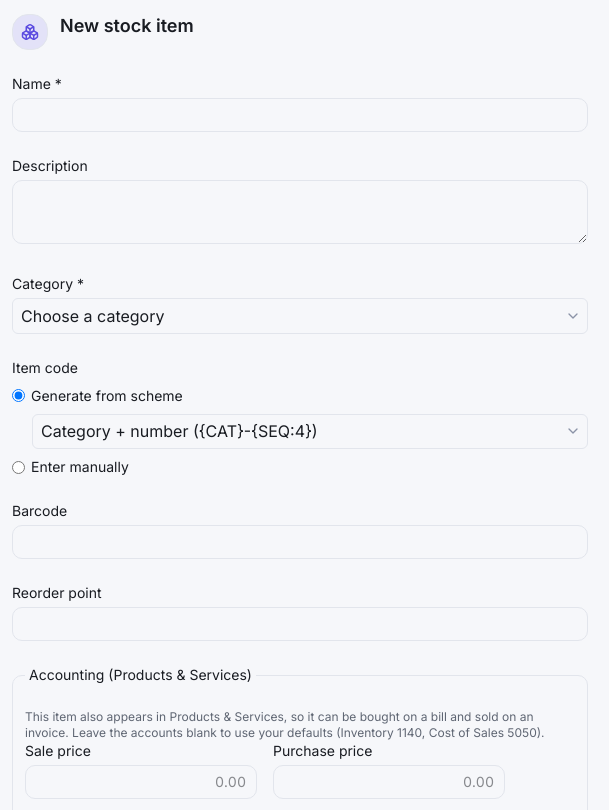
it: InventoryNewItemPage › choosing Residential units renders its required custom fields
Select "Residential units" in the dropdown labelled "Category *" at (300, 316), box [12,298,588,334]
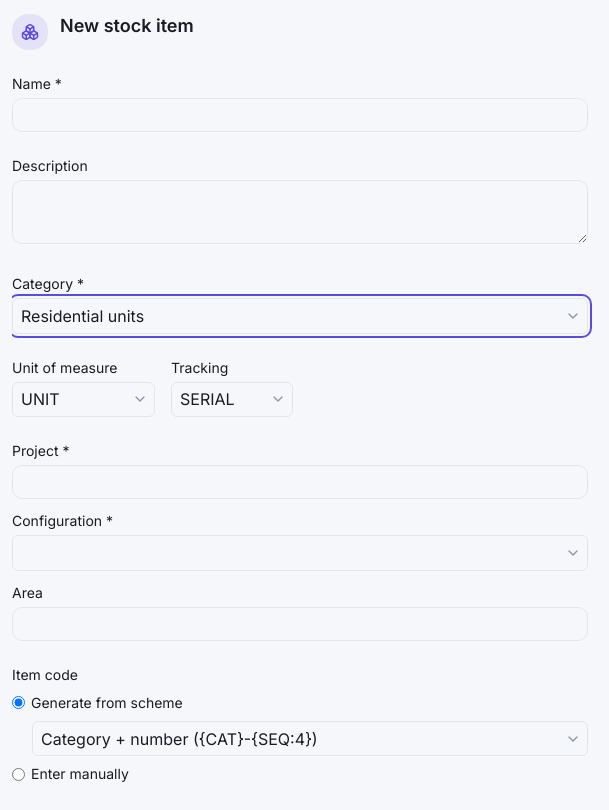
Check: the dropdown labelled "Configuration *" is shown, box [12,535,588,571]
